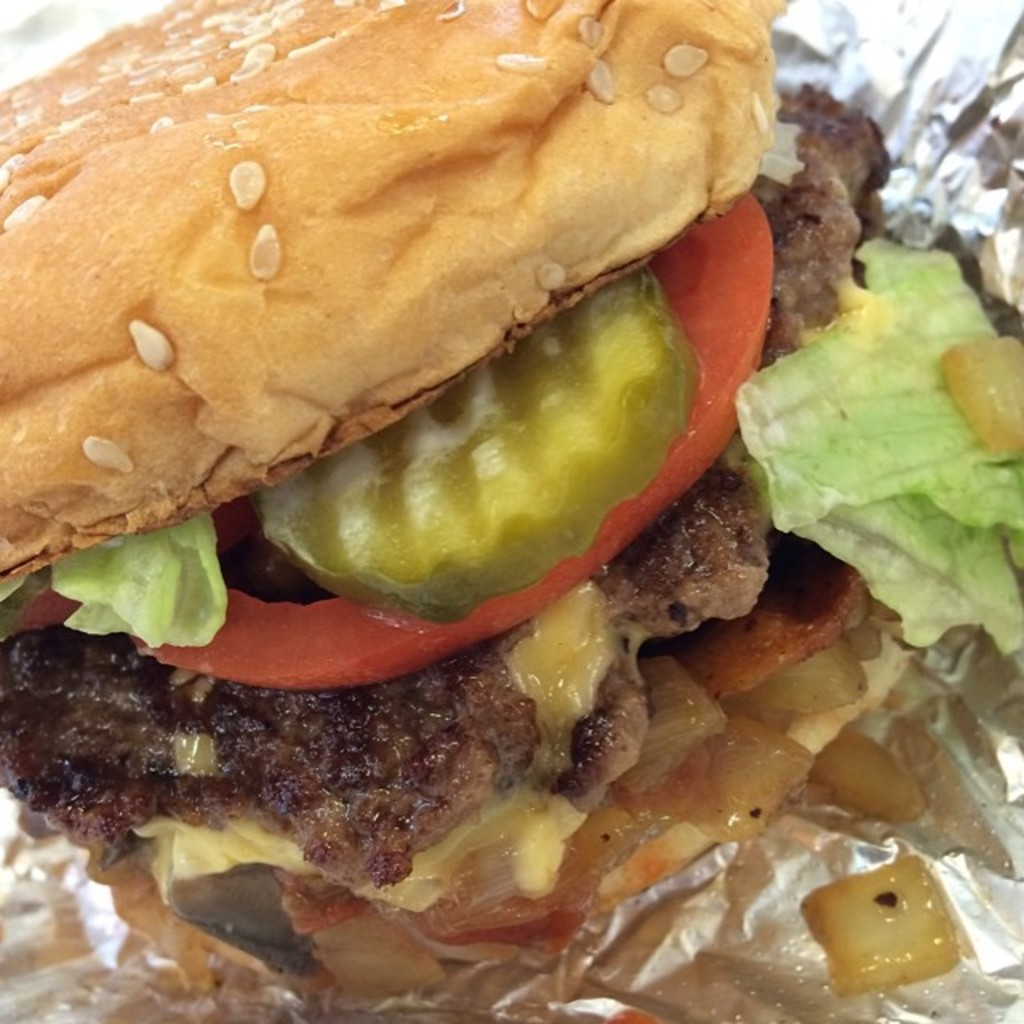Hamburger: (0, 0, 1022, 996)
